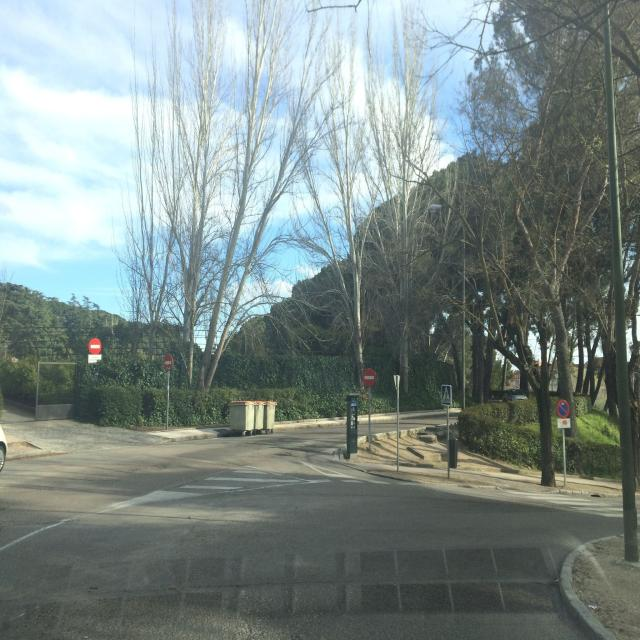forb_stopping: (557, 401, 568, 417)
